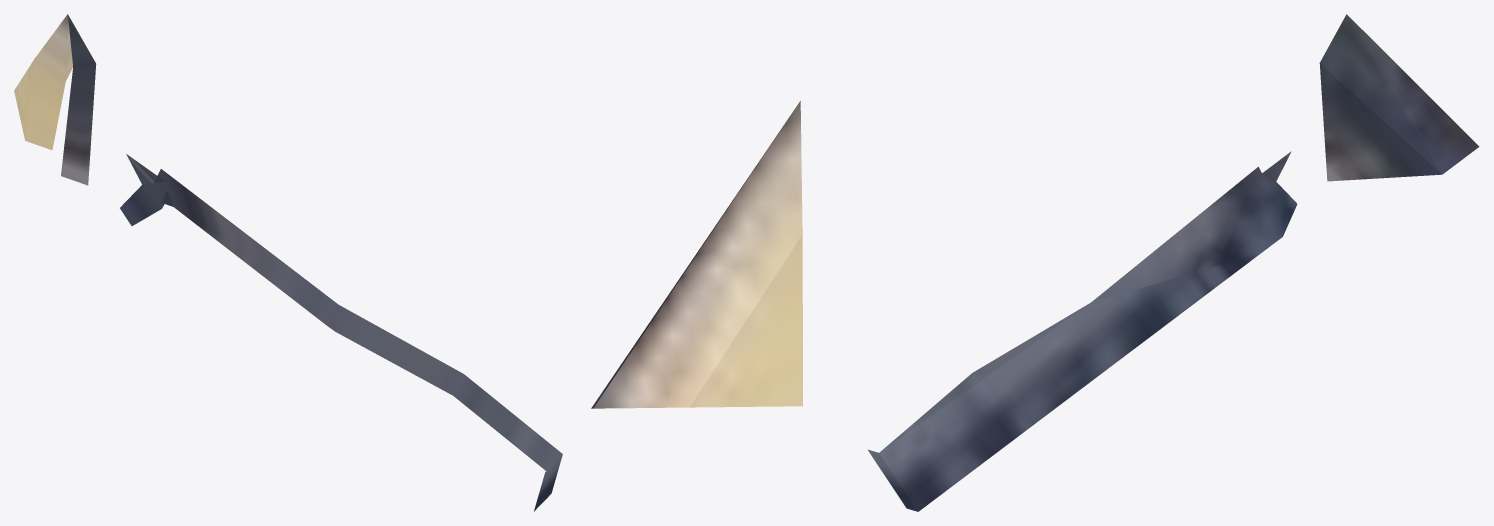
3 views of the same model, side by side, from view 1: azimuth 30°, elevation 25°; view 2: azimuth 150°, elevation 25°; view 3: azimuth 270°, elevation 25° (orthographic). The views are drawn at different scales.
Bounding box in the file's own units: 10.3 × 13.48 × 19.65.
Materials: 1 (1 with a texture image).
